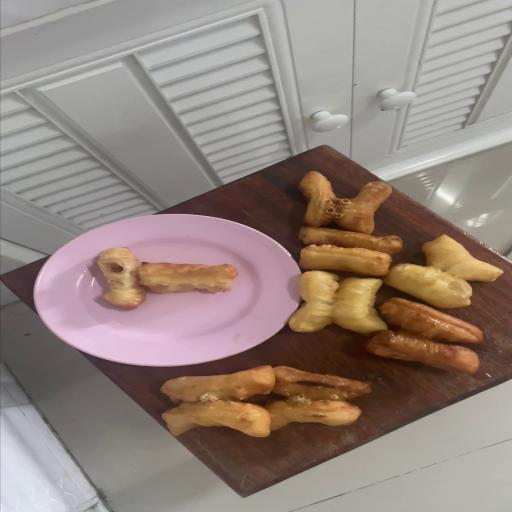street_burnt_defect: (138, 263, 239, 294)
street_golden_defect: (161, 366, 368, 437)
